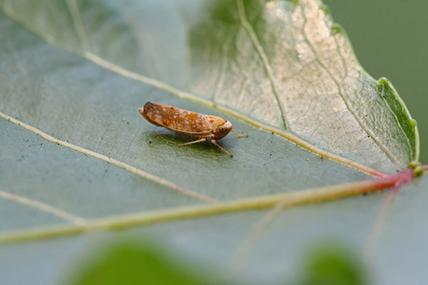Cicadellidae: (136, 101, 234, 158)
